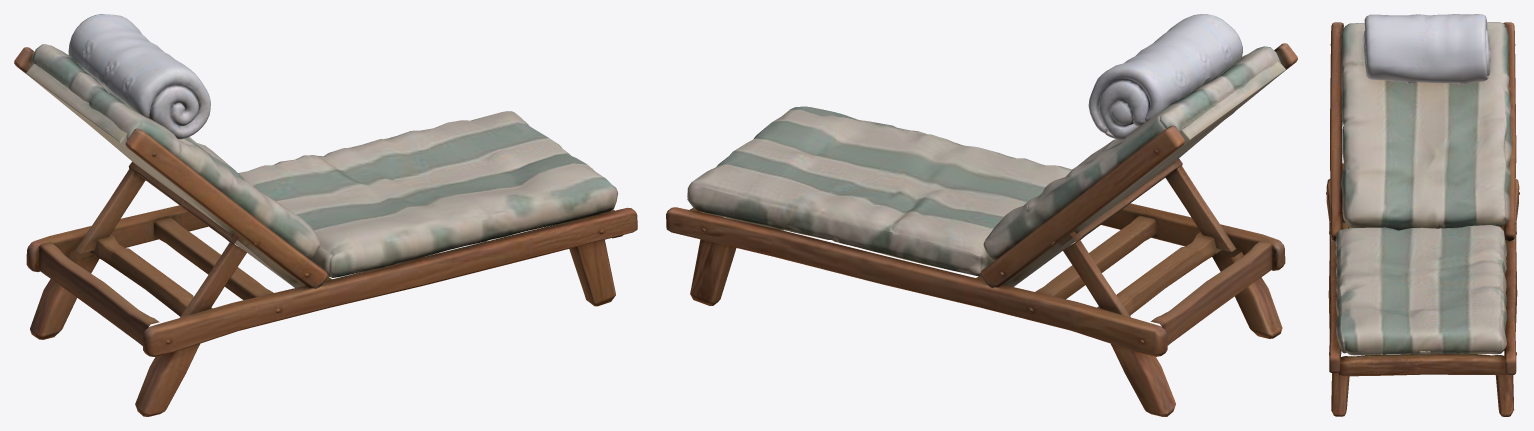
Rendered from lounger.glb.
3 renders of one model, left to right at view 1: azimuth 30°, elevation 25°; view 2: azimuth 150°, elevation 25°; view 3: azimuth 270°, elevation 25°, orthographic. The views are drawn at different scales.
Visible parts, largest first — view 1: tripo_node_07f32ffa-aa36-4b0a-ac05-cd30a4249a31; view 2: tripo_node_07f32ffa-aa36-4b0a-ac05-cd30a4249a31; view 3: tripo_node_07f32ffa-aa36-4b0a-ac05-cd30a4249a31.
Part boxes in pixels (x1,y1,x2,y2): tripo_node_07f32ffa-aa36-4b0a-ac05-cd30a4249a31: (14,14,637,416); tripo_node_07f32ffa-aa36-4b0a-ac05-cd30a4249a31: (666,14,1297,416); tripo_node_07f32ffa-aa36-4b0a-ac05-cd30a4249a31: (1326,14,1519,416).
Size of the model in its own units: 0.9995 by 0.604 by 0.4321.
Materials: 1 (1 with a texture image).
